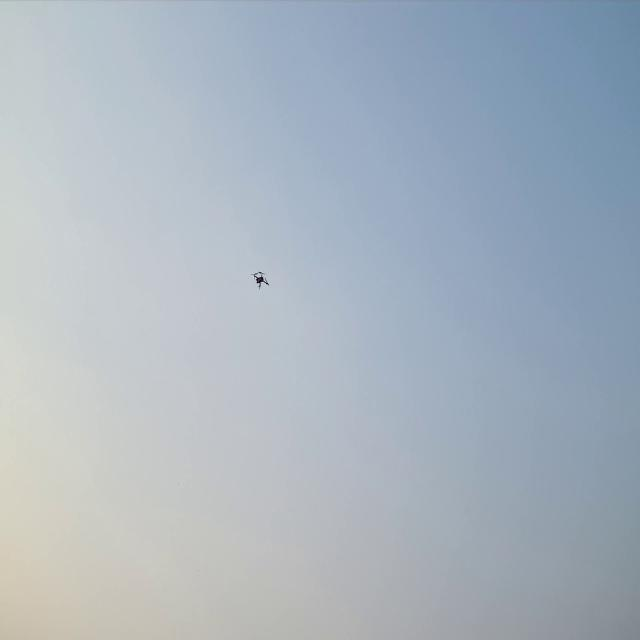UAV: (250, 270, 272, 292)
